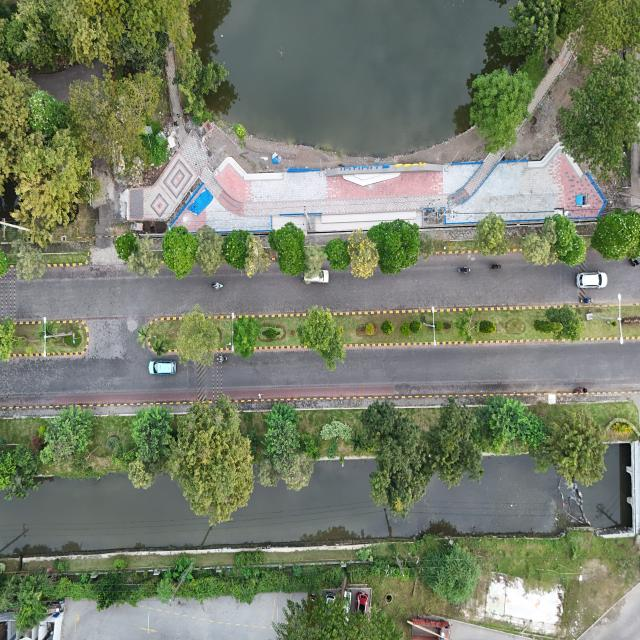Tree: (162, 223, 197, 280), (268, 222, 305, 274), (196, 224, 223, 274), (477, 214, 508, 256), (233, 314, 260, 358), (221, 228, 248, 268), (325, 238, 350, 271), (305, 242, 326, 276), (114, 232, 138, 260), (418, 232, 436, 261), (532, 318, 563, 334), (136, 324, 151, 350), (151, 339, 167, 357), (232, 122, 246, 141), (478, 319, 496, 333), (381, 320, 396, 336), (326, 438, 336, 461), (400, 321, 411, 337), (410, 320, 423, 333), (365, 322, 375, 337), (436, 320, 446, 332)
